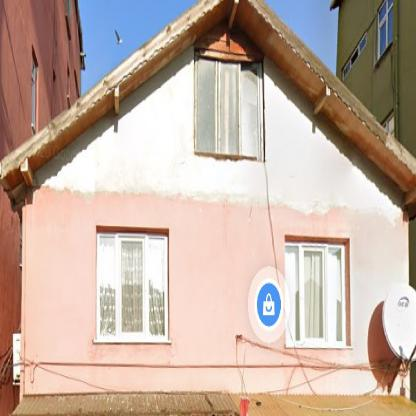window: (97, 234, 166, 338), (196, 57, 260, 157), (285, 243, 345, 344), (342, 34, 366, 80), (378, 0, 394, 59), (31, 58, 36, 126)
